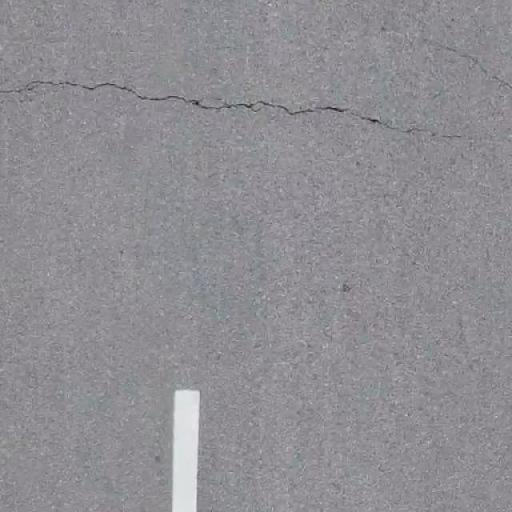moderate crack: (18, 68, 440, 145)
